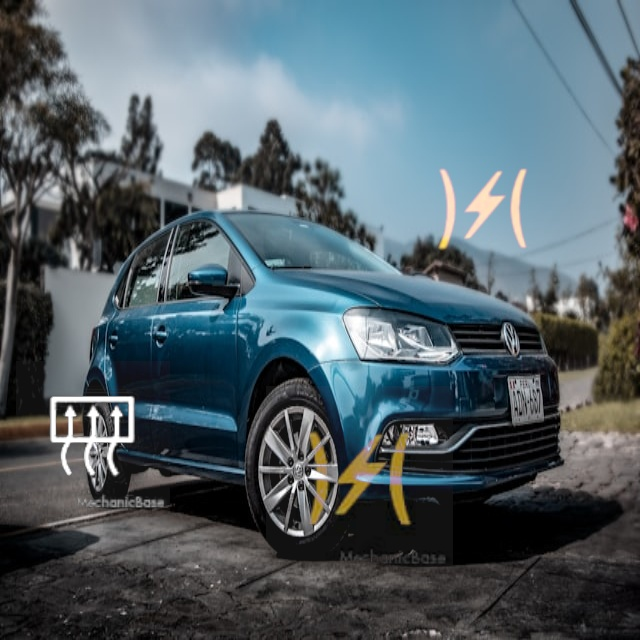symbol: (266, 386, 453, 573), (402, 128, 565, 291), (16, 361, 170, 515)
